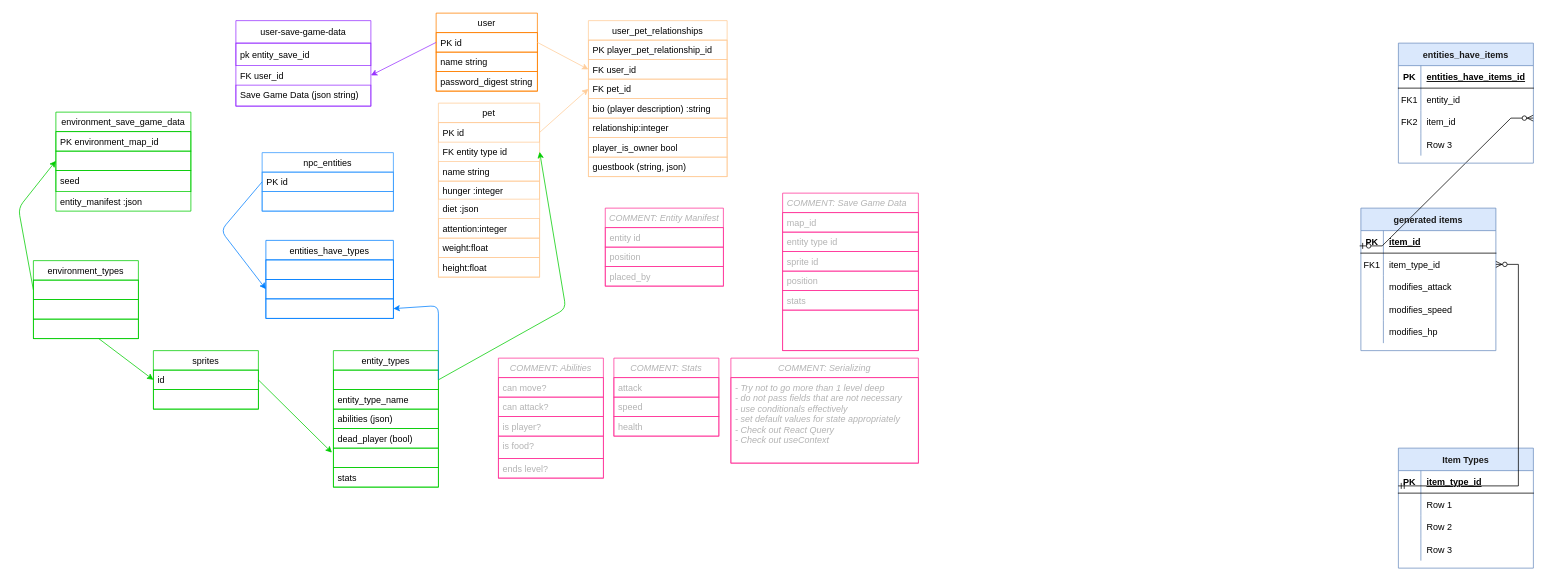
This 1553x581 diagram has some shape labels left out. Here are the shapes that lost their labels. From the top down, the centre of each, then its label:
At (123,160): "FK environment_type_id".
At (327,201): "npc data :json".
At (85,289): "PK environment_type_id".
At (329,269): "PK entities_have_types_id".
At (329,289): "FK entity_id".
At (85,309): "environment_name".
At (85,328): "environment_sprites".
At (329,308): "FK entity_type_id".
At (850,330): "calculated value: total food points available from sessile entities".
At (205,399): "image-path :string".
At (385,379): "PK entity_type_id".
At (385,457): "sprite_id".
